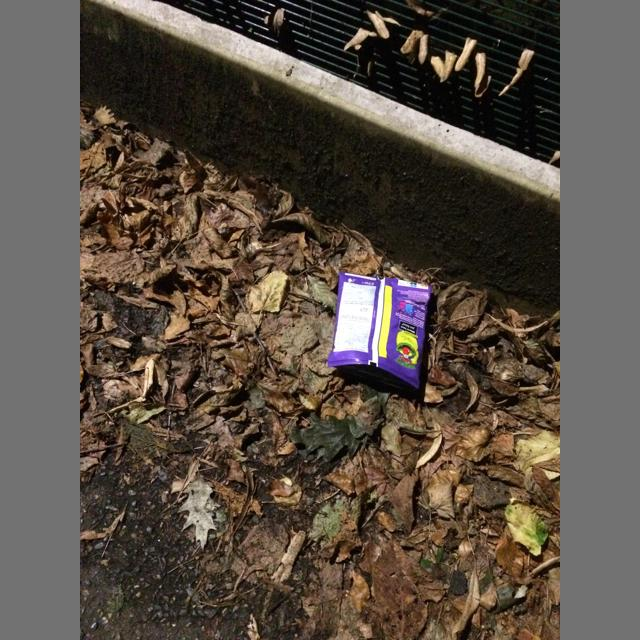litter: (328, 272, 431, 391)
